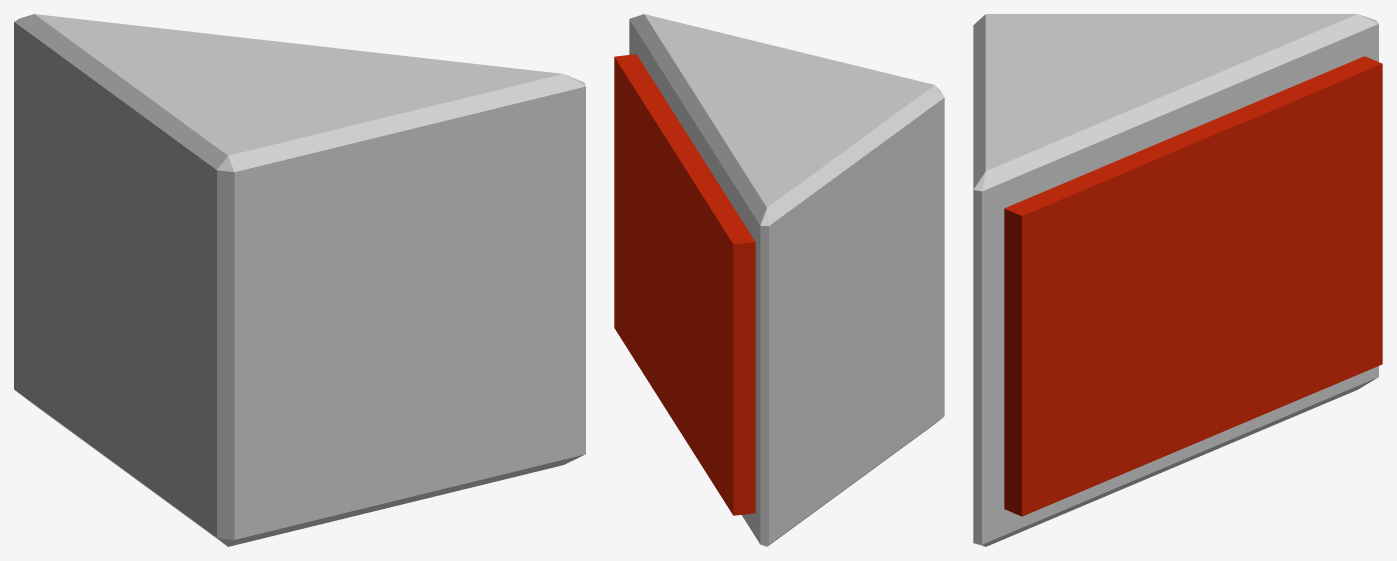
File: Bumper.fbx
3 views of the same model, side by side, from view 1: azimuth 30°, elevation 25°; view 2: azimuth 150°, elevation 25°; view 3: azimuth 270°, elevation 25° (orthographic). The views are drawn at different scales.
Visible parts, largest first — view 1: Polygon; view 2: Polygon, Cube; view 3: Cube, Polygon.
Part boxes in pixels (x1=…): Polygon: x1=14, y1=14, x2=585, y2=546; Polygon: x1=629, y1=14, x2=944, y2=546; Cube: x1=614, y1=54, x2=755, y2=515; Cube: x1=1004, y1=56, x2=1382, y2=516; Polygon: x1=973, y1=14, x2=1378, y2=546.
Bounding box in the file's own units: 97.88 × 100 × 98.72.
